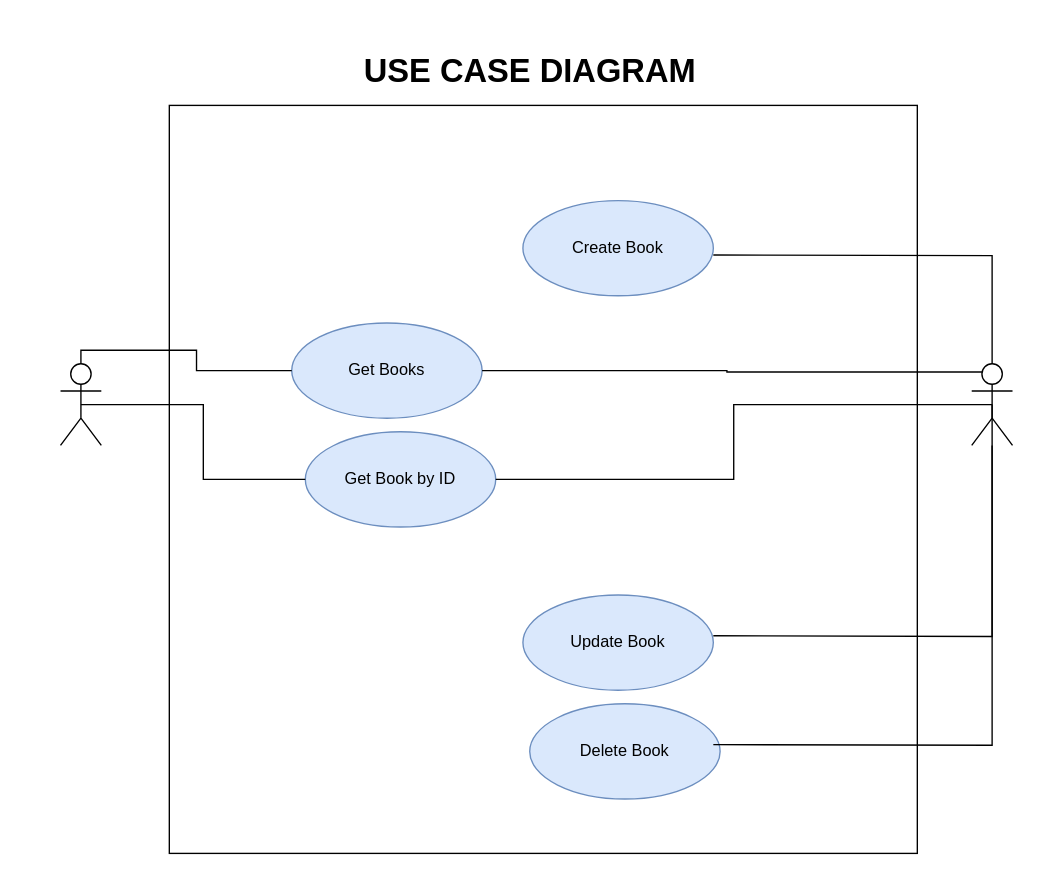
This 1058x877 diagram has some shape labels left out. The shapes that lost their labels are listed below. From the top down, each one's centre as x and y in pixels, then its label:
At (80,403): "Library Member".
At (991,403): "Library Staff".
